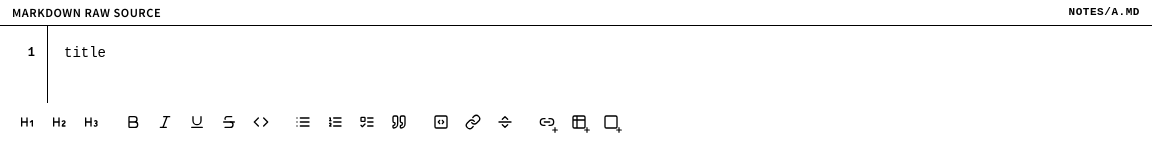
Scenario: formats from the toolbar it renders into the slot, with the insert actions beside it
The width and height of the screenshot is (1164, 160).
Click the button named "Heading 2": (59, 122) [44,107,74,137]
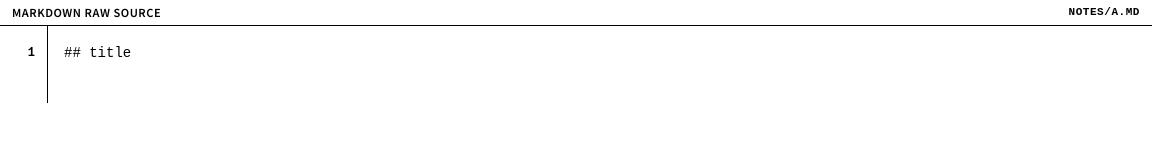
Check: the text box named "Note content" holds "## title", box [48,26,1152,103]
